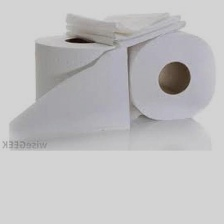tissue: (4, 29, 136, 148), (122, 24, 222, 124), (61, 2, 191, 52)
